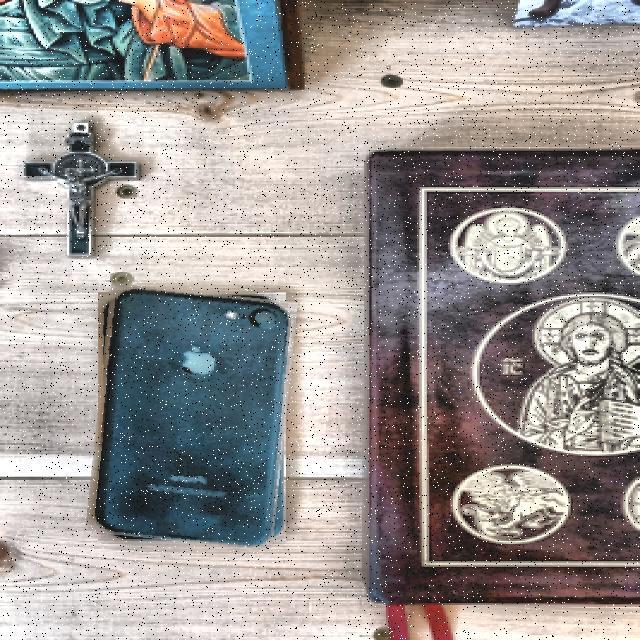Phone: (91, 288, 292, 546)
